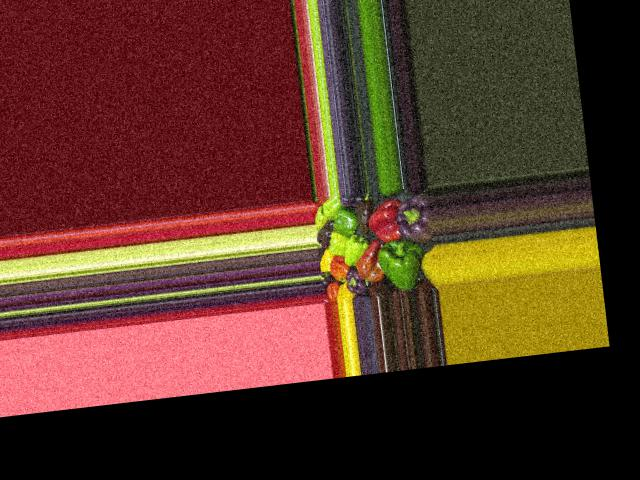bell_pepper: (340, 267, 368, 298)
